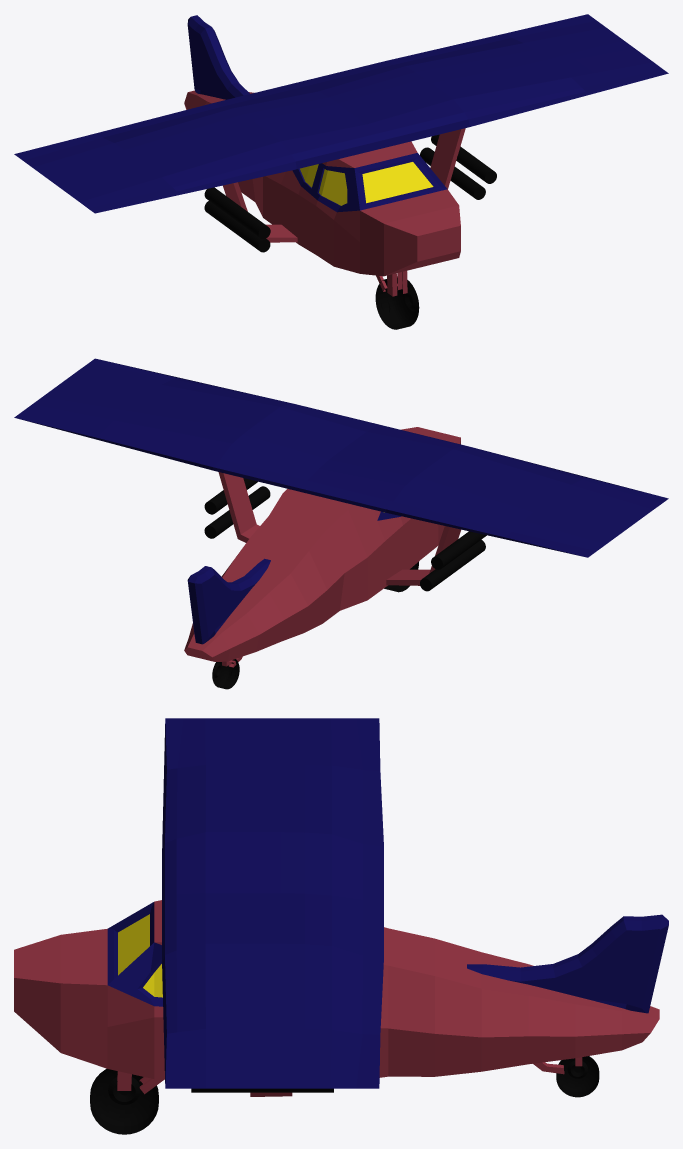
The model's file is Vloegtuig_Emiel.fbx.
3 renders of one model, top to bottom at view 1: azimuth 30°, elevation 25°; view 2: azimuth 150°, elevation 25°; view 3: azimuth 270°, elevation 25°, orthographic. The views are drawn at different scales.
Visible parts, largest first — view 1: Cube.002; view 2: Cube.002; view 3: Cube.002.
Boxes of the visible parts, bbox=[...] form: Cube.002: bbox=[14, 14, 668, 329]; Cube.002: bbox=[14, 358, 668, 689]; Cube.002: bbox=[14, 718, 668, 1134].
Bounding box in the file's own units: 476 × 145 × 355.
